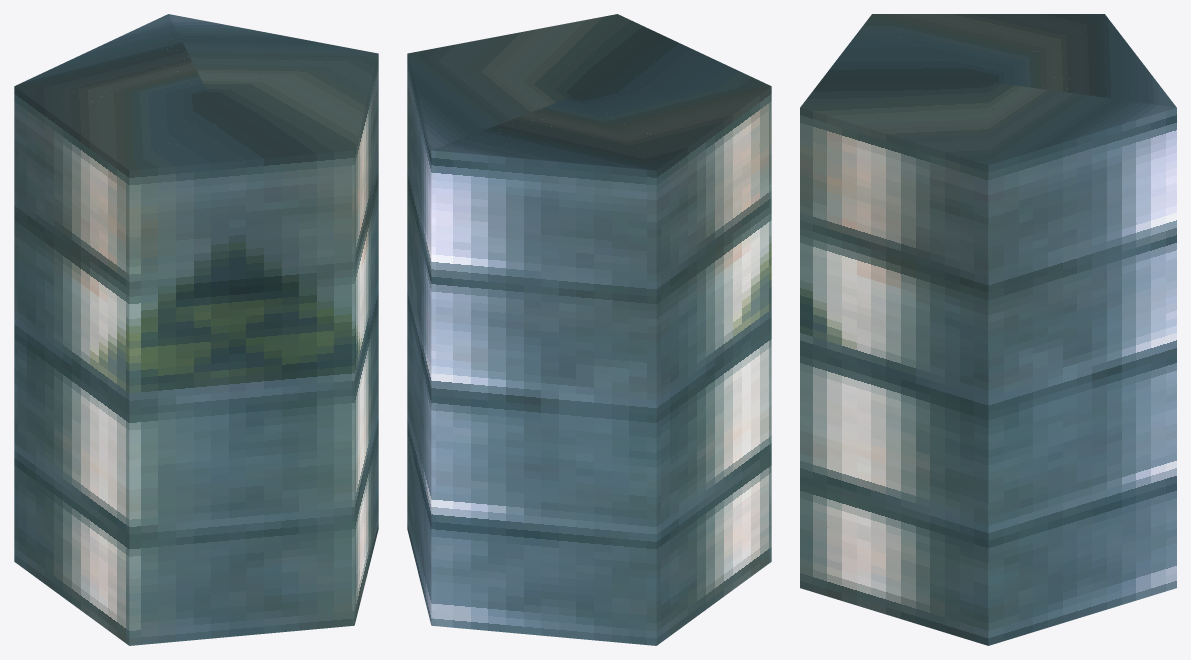
File: barrel04.glb
3 renders of one model, left to right at view 1: azimuth 30°, elevation 25°; view 2: azimuth 150°, elevation 25°; view 3: azimuth 270°, elevation 25°, orthographic.
Visible parts, largest first — view 1: barrel04; view 2: barrel04; view 3: barrel04.
Boxes of the visible parts, x1,y1,x2,y2 form: barrel04: (14, 14, 378, 645); barrel04: (407, 14, 771, 645); barrel04: (800, 14, 1176, 645).
Size of the model in its own units: 173 by 256 by 182.
Materials: 1 (1 with a texture image).
